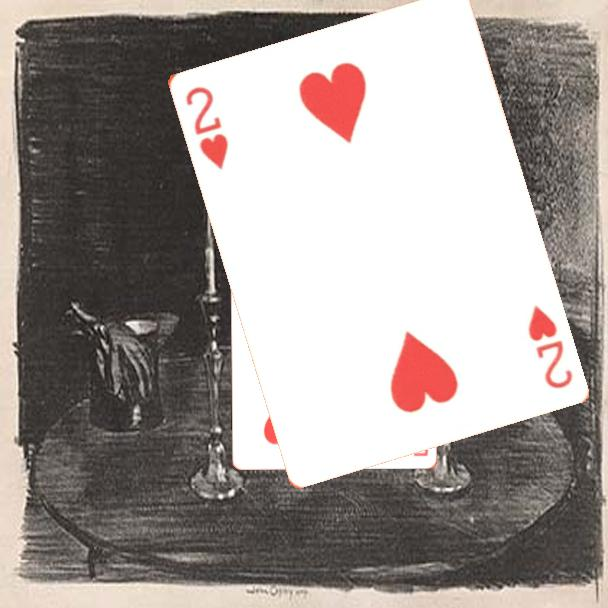h02: (523, 301, 575, 392), (181, 82, 231, 172)
